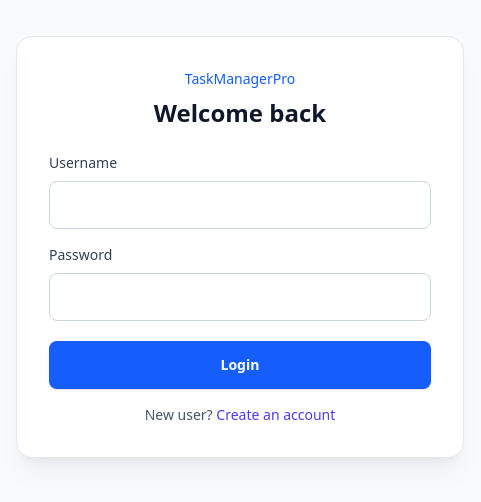
Test: Login › restores the button and displays the existing error message after a failed request
The width and height of the screenshot is (481, 502).
Step 1. Type "user" into the field labelled "Username" → (240, 205), box [49,181,431,229]
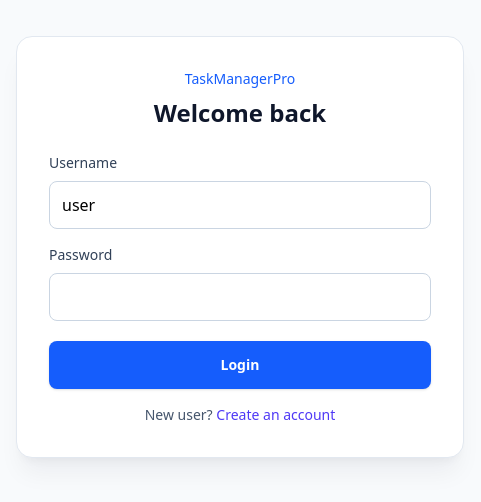
Step 2. Type "Password123!" into the password field labelled "Password" → (240, 297), box [49,273,431,321]
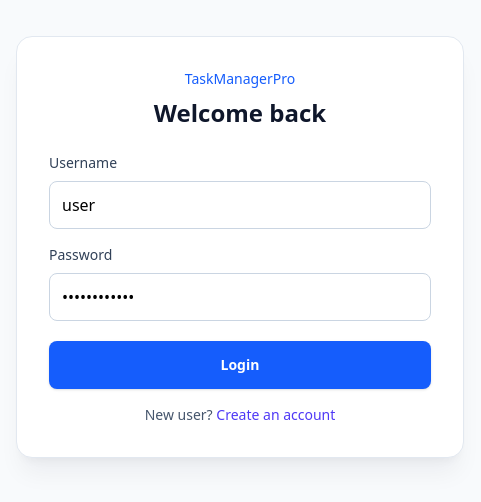
Step 3. Submit the form "Login", box [49,153,431,389]
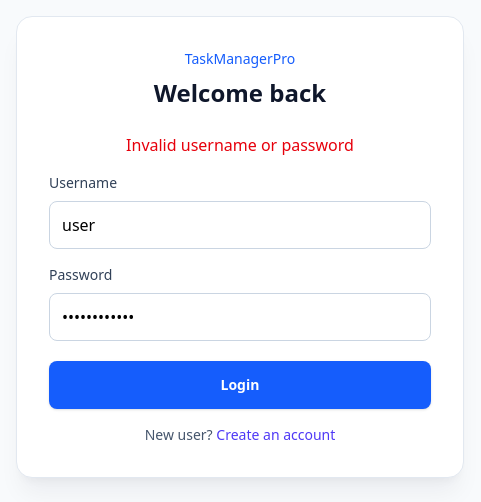
Check: the button "Login" is enabled, box [49,361,431,409]
Check: the text "Invalid username or password" is shown, box [126,134,354,156]
